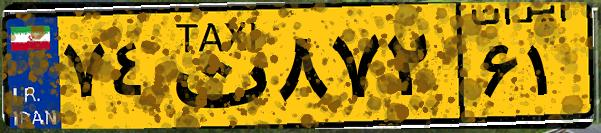1: (525, 38, 570, 115)
2: (385, 28, 445, 110)
4: (110, 28, 158, 98)
6: (475, 38, 525, 113)
7: (330, 28, 385, 110), (57, 26, 110, 100)
8: (270, 28, 330, 110)
ت: (158, 12, 270, 120)
